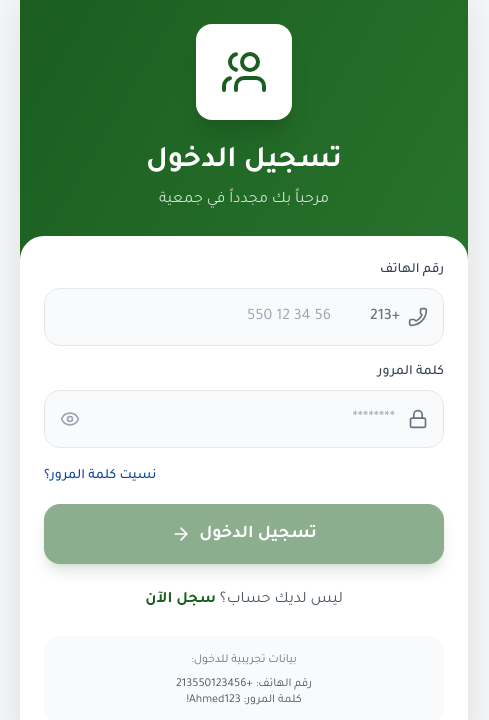
Test case: Authentication › should navigate to register screen
Click the button "سجل الآن" at (181, 600), box [145,588,216,612]
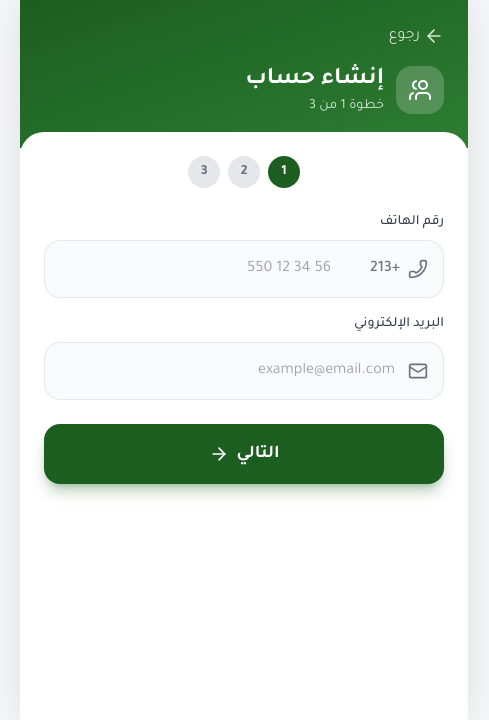
Now the heading "إنشاء حساب" is shown, box [245,64,384,96]
